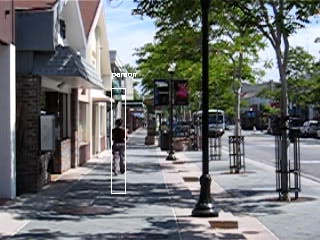person: (111, 118, 130, 175), (110, 118, 129, 175), (112, 118, 131, 175), (111, 117, 130, 174), (111, 119, 130, 176)
target_negative: (85, 148, 246, 208), (72, 164, 175, 202), (219, 218, 319, 232), (97, 211, 124, 233), (295, 124, 300, 195)
